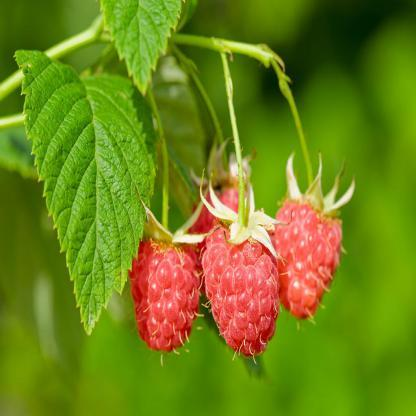Raspberry leaf: (11, 44, 154, 346), (100, 0, 185, 94)
